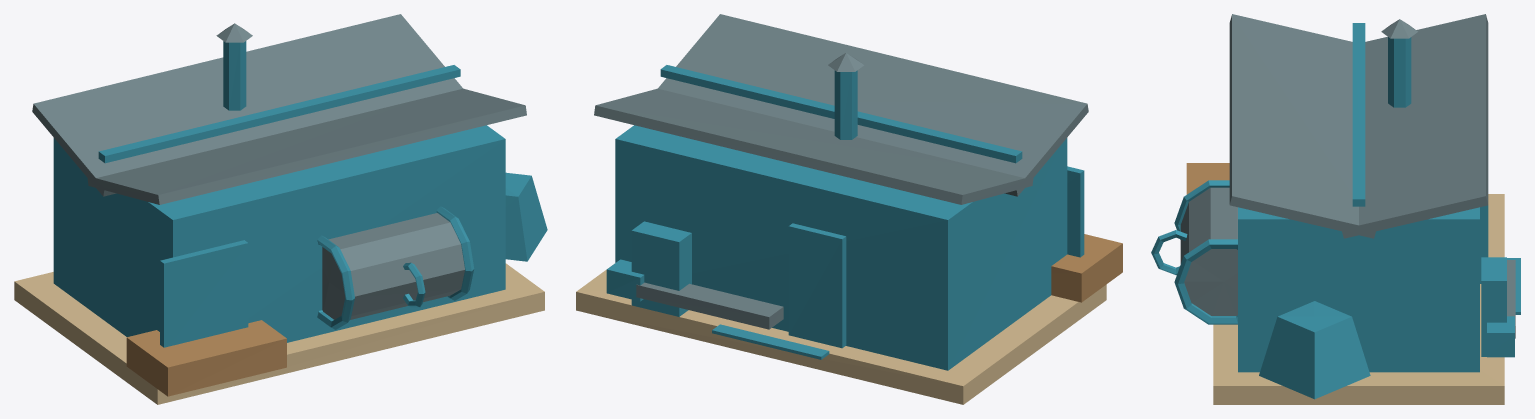
File: cannery.source.glb
3 views of the same model, side by side, from view 1: azimuth 30°, elevation 25°; view 2: azimuth 150°, elevation 25°; view 3: azimuth 270°, elevation 25° (orthographic).
Parts seen in each view (by area): view 1: cannery-organized-rectangular-processing-hall-mesh, cannery-shallow-galvanized-cannery-roof-mesh (×2), cannery-low-stone-cannery-curb-mesh, cannery-enclosed-horizontal-cooking-retort-mesh, cannery-wide-loading-shutter-cue-mesh, cannery-raised-loading-dock-mesh, cannery-cannery-roof-ridge-mesh, cannery-empty-produce-receiving-hopper-cue-mesh, cannery-slim-steam-vent-stack-mesh, cannery-retort-reinforcing-rim-mesh, cannery-retort-reinforcing-rim-second-mesh, cannery-retort-control-handwheel-mesh; view 2: cannery-organized-rectangular-processing-hall-mesh, cannery-shallow-galvanized-cannery-roof-mesh (×2), cannery-low-stone-cannery-curb-mesh, cannery-small-washable-service-door-mesh, cannery-cannery-roof-ridge-mesh, cannery-dark-power-control-cabinet-mesh, cannery-empty-canning-output-line-cue-mesh, cannery-raised-loading-dock-mesh, cannery-slim-steam-vent-stack-mesh, cannery-wide-loading-shutter-cue-mesh, cannery-wash-drain-channel-mesh, cannery-product-output-chute-mesh; view 3: cannery-shallow-galvanized-cannery-roof-mesh (×2), cannery-organized-rectangular-processing-hall-mesh, cannery-low-stone-cannery-curb-mesh, cannery-empty-produce-receiving-hopper-cue-mesh, cannery-enclosed-horizontal-cooking-retort-mesh, cannery-cannery-roof-ridge-mesh, cannery-dark-power-control-cabinet-mesh, cannery-slim-steam-vent-stack-mesh, cannery-retort-reinforcing-rim-second-mesh, cannery-product-output-chute-mesh, cannery-raised-loading-dock-mesh, cannery-retort-reinforcing-rim-mesh (+5 smaller).
Part boxes in pixels (x1,y1,x2,y2): cannery-organized-rectangular-processing-hall-mesh: (53, 125, 505, 342); cannery-shallow-galvanized-cannery-roof-mesh (×2): (32, 14, 526, 204); cannery-low-stone-cannery-curb-mesh: (14, 263, 544, 404); cannery-enclosed-horizontal-cooking-retort-mesh: (322, 213, 464, 319); cannery-wide-loading-shutter-cue-mesh: (160, 240, 248, 347); cannery-raised-loading-dock-mesh: (126, 320, 286, 396); cannery-cannery-roof-ridge-mesh: (98, 65, 460, 163); cannery-empty-produce-receiving-hopper-cue-mesh: (505, 172, 547, 261); cannery-slim-steam-vent-stack-mesh: (223, 41, 246, 110); cannery-retort-reinforcing-rim-mesh: (317, 235, 354, 329); cannery-retort-reinforcing-rim-second-mesh: (436, 206, 474, 300); cannery-retort-control-handwheel-mesh: (403, 262, 425, 307); cannery-organized-rectangular-processing-hall-mesh: (615, 125, 1067, 370); cannery-shallow-galvanized-cannery-roof-mesh (×2): (594, 14, 1088, 204); cannery-low-stone-cannery-curb-mesh: (576, 269, 1106, 404); cannery-small-washable-service-door-mesh: (788, 223, 846, 348); cannery-cannery-roof-ridge-mesh: (660, 65, 1022, 163); cannery-dark-power-control-cabinet-mesh: (631, 221, 691, 316); cannery-empty-canning-output-line-cue-mesh: (636, 282, 783, 329); cannery-raised-loading-dock-mesh: (1051, 234, 1122, 302); cannery-slim-steam-vent-stack-mesh: (834, 70, 857, 139); cannery-wide-loading-shutter-cue-mesh: (1067, 166, 1084, 257); cannery-wash-drain-channel-mesh: (712, 324, 829, 359); cannery-product-output-chute-mesh: (606, 259, 644, 301); cannery-shallow-galvanized-cannery-roof-mesh (×2): (1229, 14, 1488, 238); cannery-organized-rectangular-processing-hall-mesh: (1238, 207, 1479, 372); cannery-low-stone-cannery-curb-mesh: (1213, 194, 1504, 404); cannery-empty-produce-receiving-hopper-cue-mesh: (1259, 301, 1370, 399); cannery-enclosed-horizontal-cooking-retort-mesh: (1180, 187, 1237, 315); cannery-cannery-roof-ridge-mesh: (1352, 23, 1365, 206); cannery-dark-power-control-cabinet-mesh: (1481, 257, 1506, 356); cannery-slim-steam-vent-stack-mesh: (1388, 37, 1411, 107); cannery-retort-reinforcing-rim-second-mesh: (1174, 239, 1237, 324); cannery-product-output-chute-mesh: (1487, 316, 1514, 357); cannery-raised-loading-dock-mesh: (1186, 163, 1229, 194); cannery-retort-reinforcing-rim-mesh: (1174, 180, 1229, 239).
Size of the model in its own units: 4.46 by 2.63 by 3.18.
